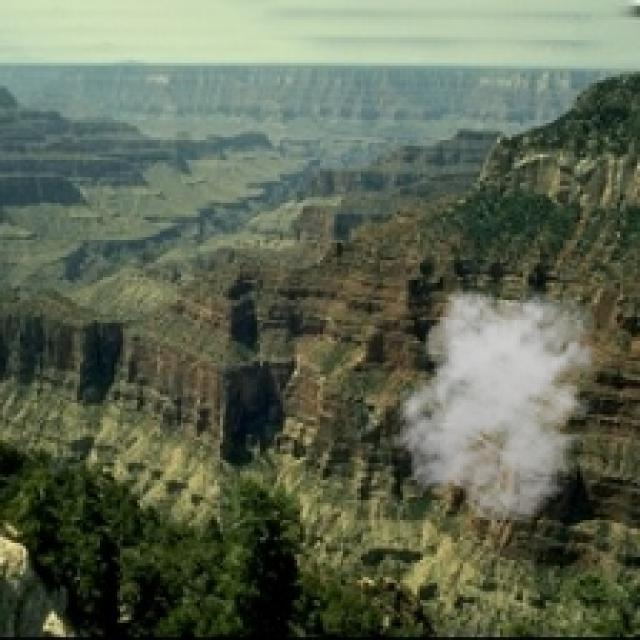Smoke: (392, 280, 608, 523)
